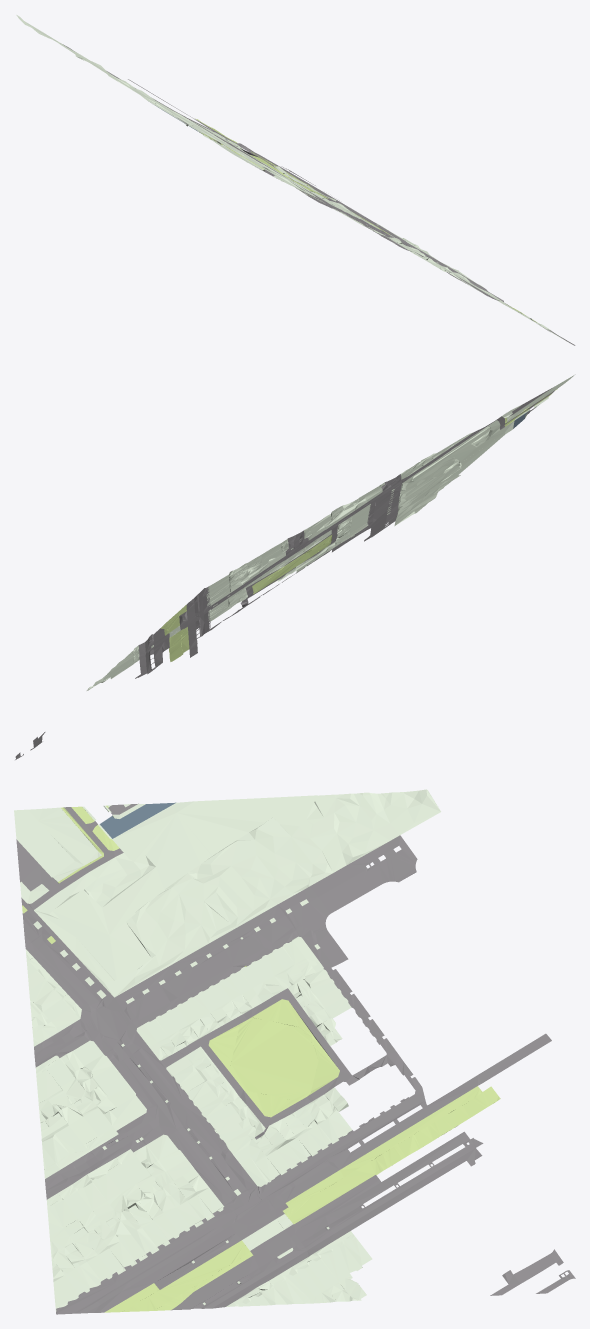
3 renders of one model, top to bottom at view 1: azimuth 30°, elevation 25°; view 2: azimuth 150°, elevation 25°; view 3: azimuth 270°, elevation 25°, orthographic. The views are drawn at different scales.
Bounding box in the file's own units: 212 × 156 × 247.
